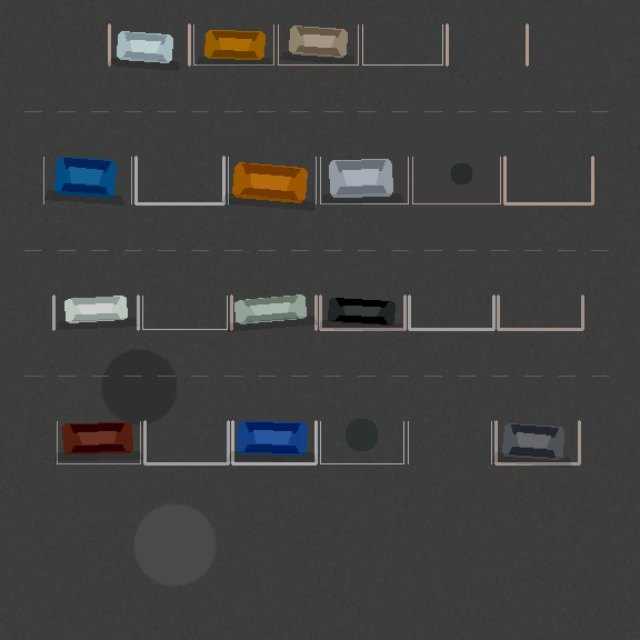space-empty: (412, 157, 500, 203), (504, 157, 592, 203), (136, 157, 223, 203), (144, 421, 228, 463), (320, 421, 403, 463), (408, 421, 491, 463), (362, 24, 442, 64), (447, 24, 527, 64), (142, 296, 227, 329), (409, 296, 493, 329), (498, 296, 582, 329)
space-occupied: (43, 157, 131, 203), (228, 157, 316, 203), (320, 157, 408, 203), (232, 421, 316, 463), (57, 421, 140, 463), (496, 421, 579, 463), (109, 24, 189, 64), (193, 24, 273, 64), (278, 24, 358, 64), (53, 296, 138, 329), (231, 296, 316, 329), (320, 296, 404, 329)
